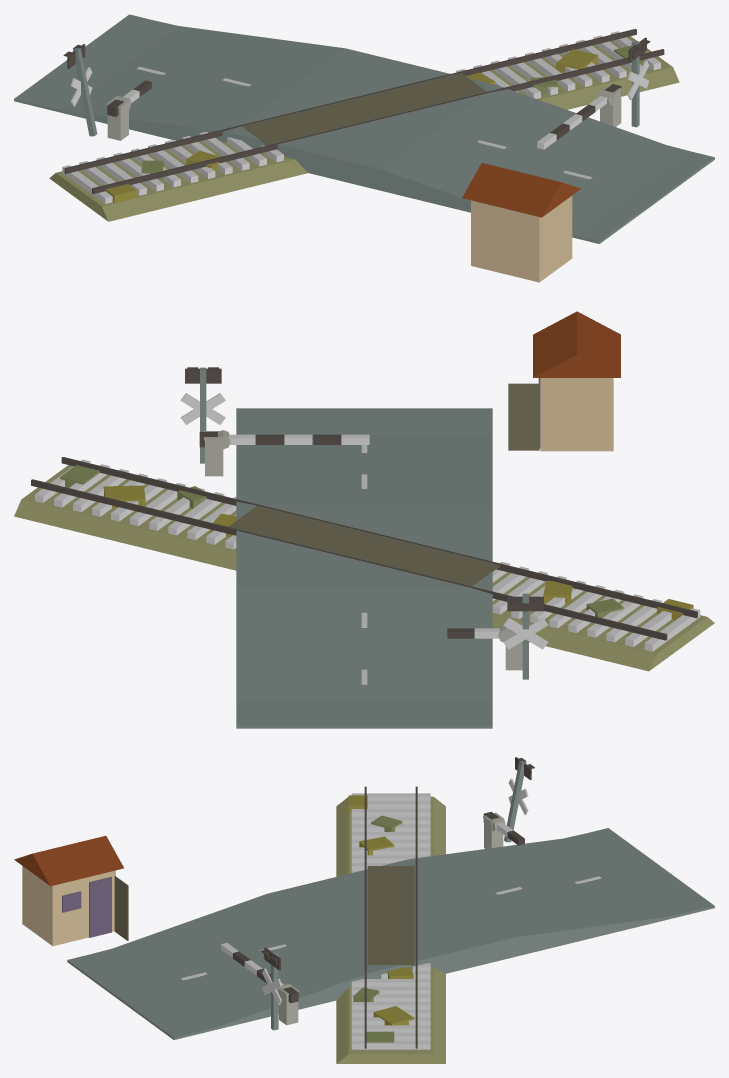
The model's file is SM_PasoNivel_60_v2_Abandonado_LOD0.fbx.
3 views of the same model, one above another, from view 1: azimuth 30°, elevation 25°; view 2: azimuth 150°, elevation 25°; view 3: azimuth 270°, elevation 25° (orthographic). The views are drawn at different scales.
Visible parts, largest first — view 1: SM_paso_nivel_kit_v7_LOD0, Barrera_1, Barrera_2; view 2: SM_paso_nivel_kit_v7_LOD0, Barrera_1, Barrera_2; view 3: SM_paso_nivel_kit_v7_LOD0, Barrera_1, Barrera_2.
Part boxes in pixels (x1,y1,x2,y2): SM_paso_nivel_kit_v7_LOD0: (14,14,714,282); Barrera_1: (537,84,621,149); Barrera_2: (107,80,151,116); SM_paso_nivel_kit_v7_LOD0: (14,311,714,728); Barrera_1: (199,430,369,449); Barrera_2: (447,625,511,641); SM_paso_nivel_kit_v7_LOD0: (14,757,714,1063); Barrera_1: (221,943,298,1003); Barrera_2: (483,811,524,845).
Bounding box in the file's own units: 20 × 3.04 × 23.01.
